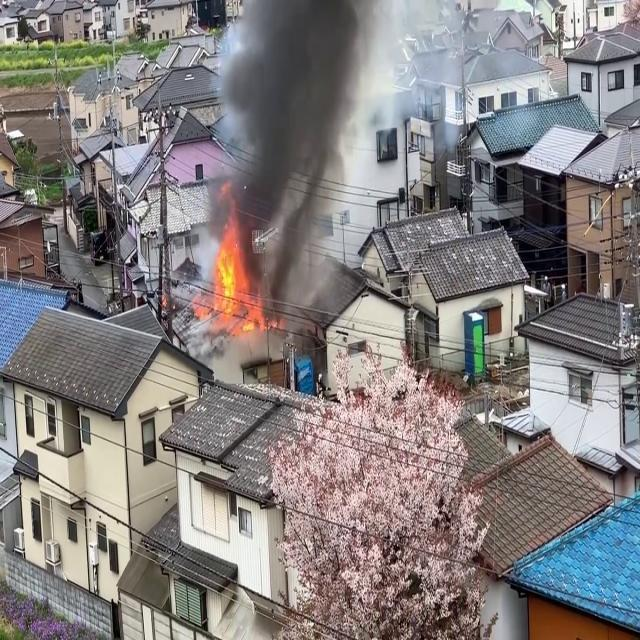Fire: (203, 224, 264, 334)
Smoke: (204, 0, 372, 296)
